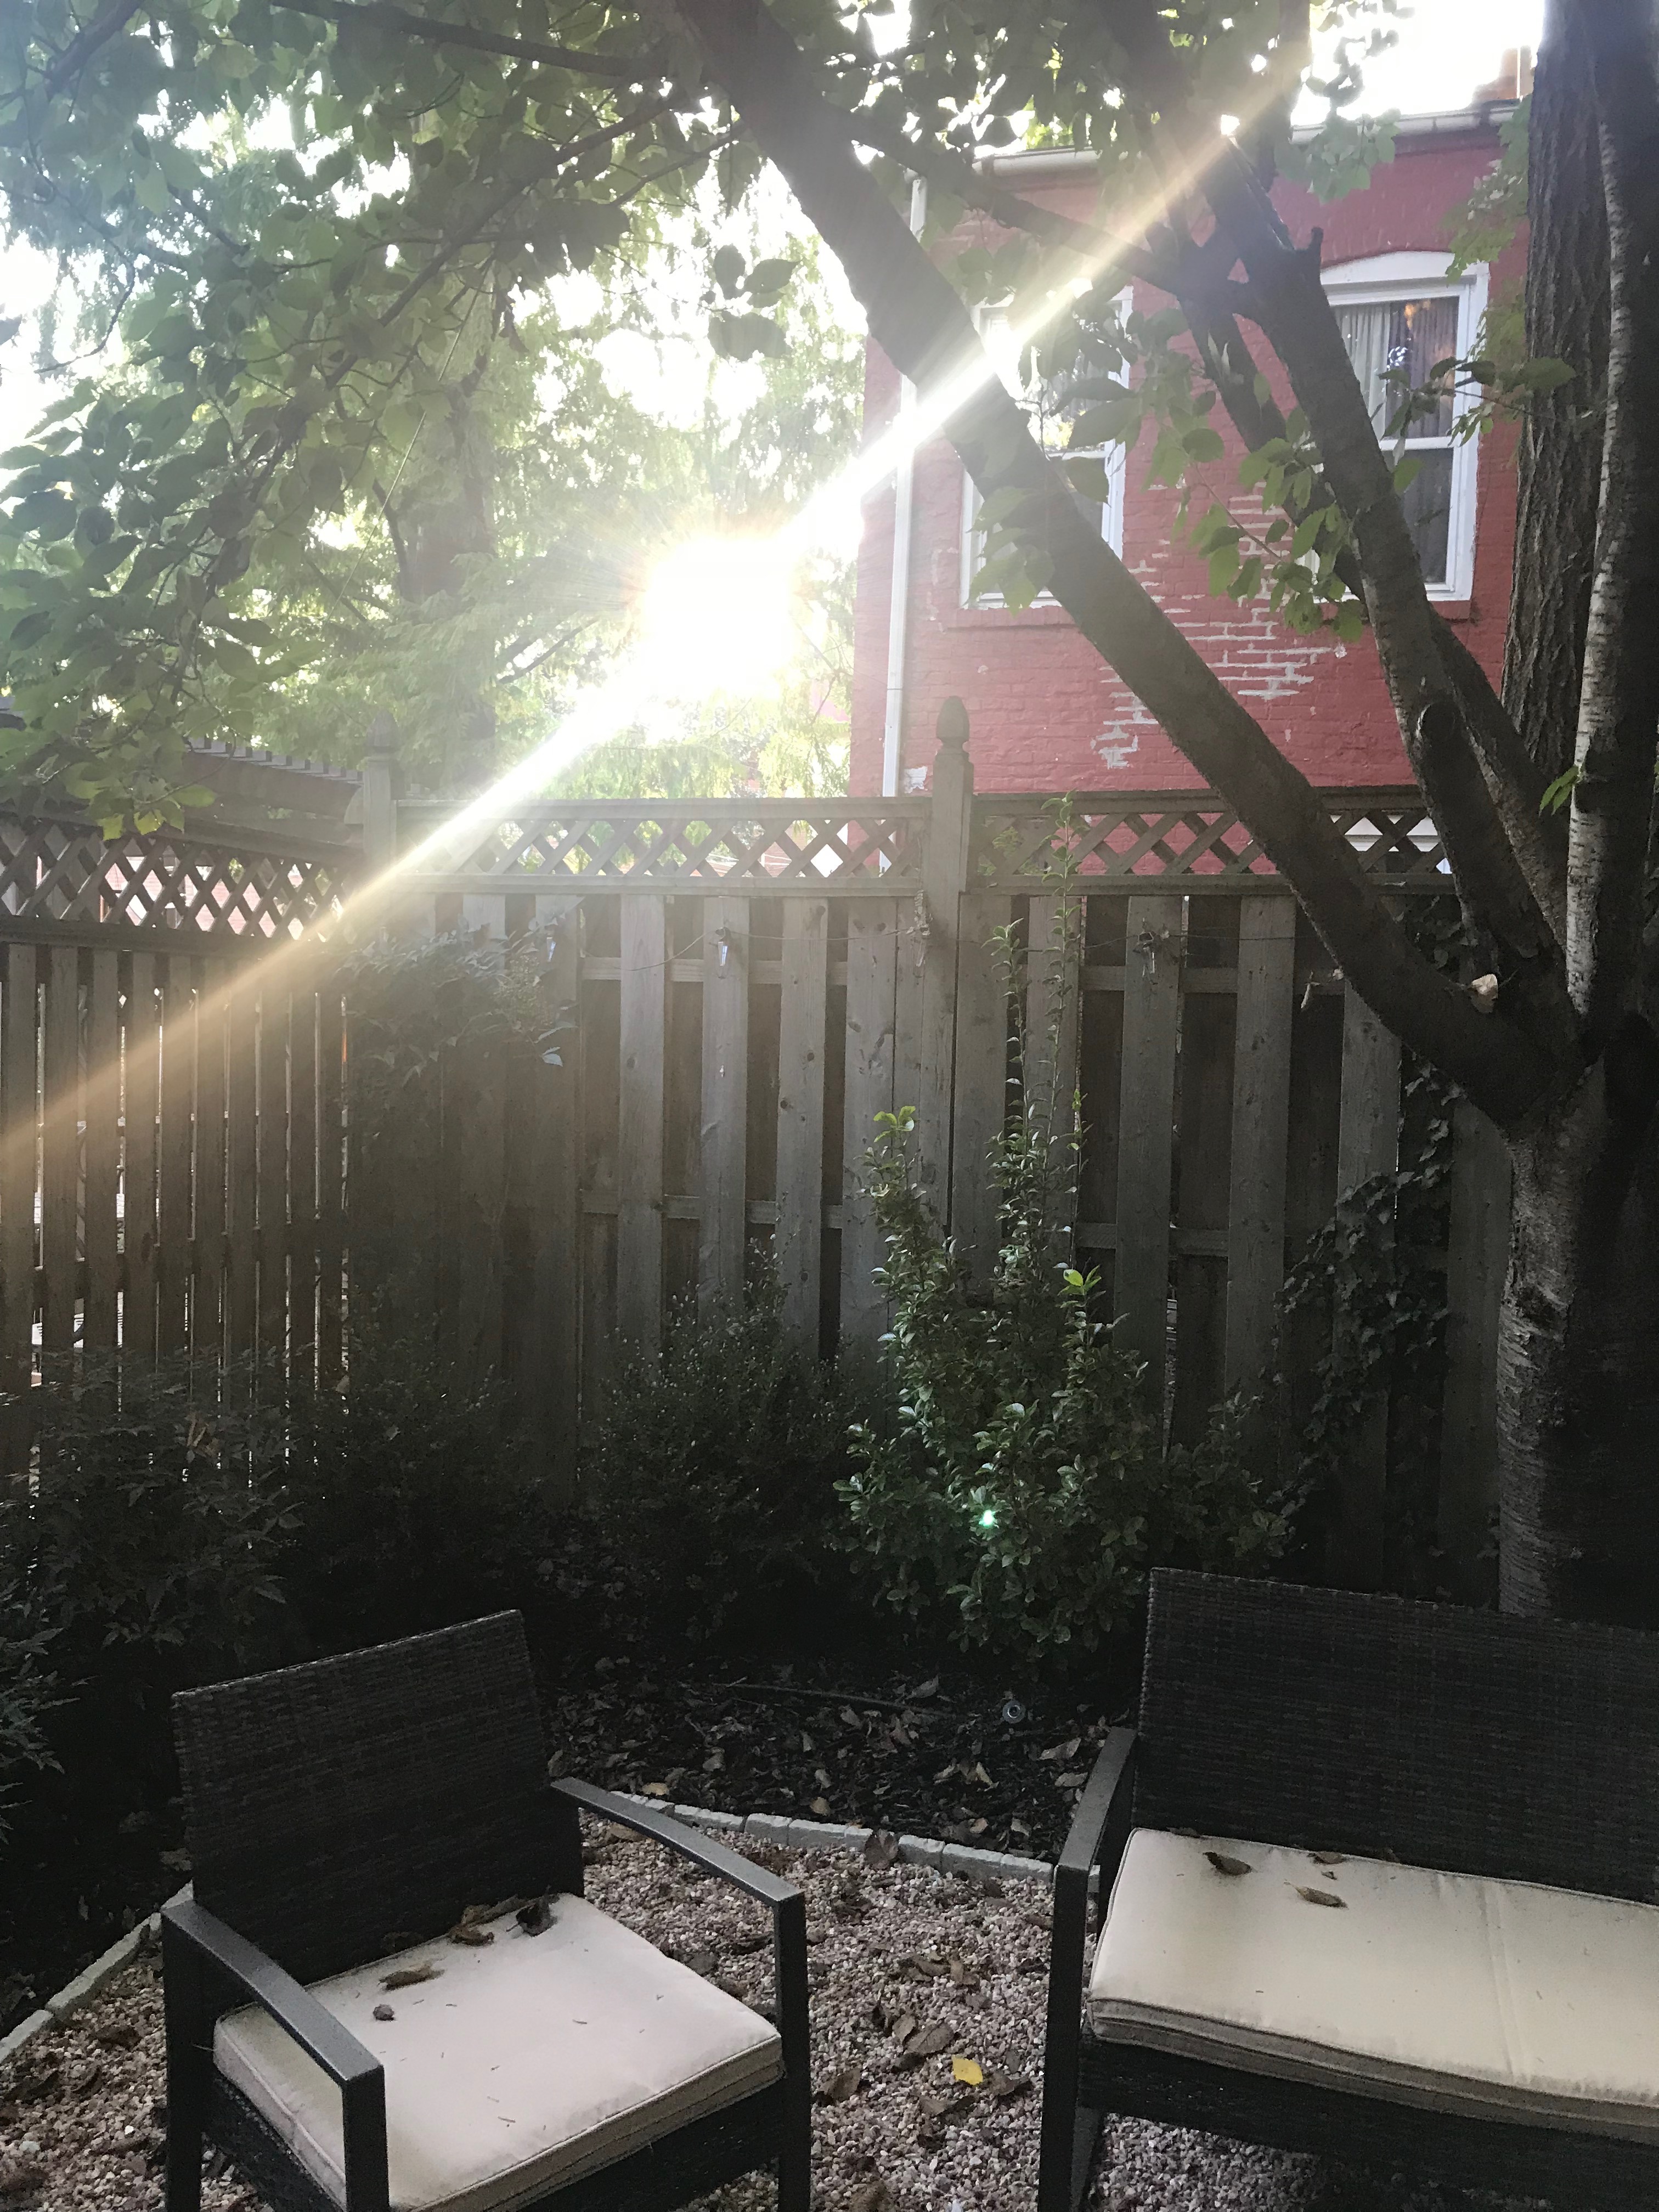flare: (976, 1508, 1002, 1531)
